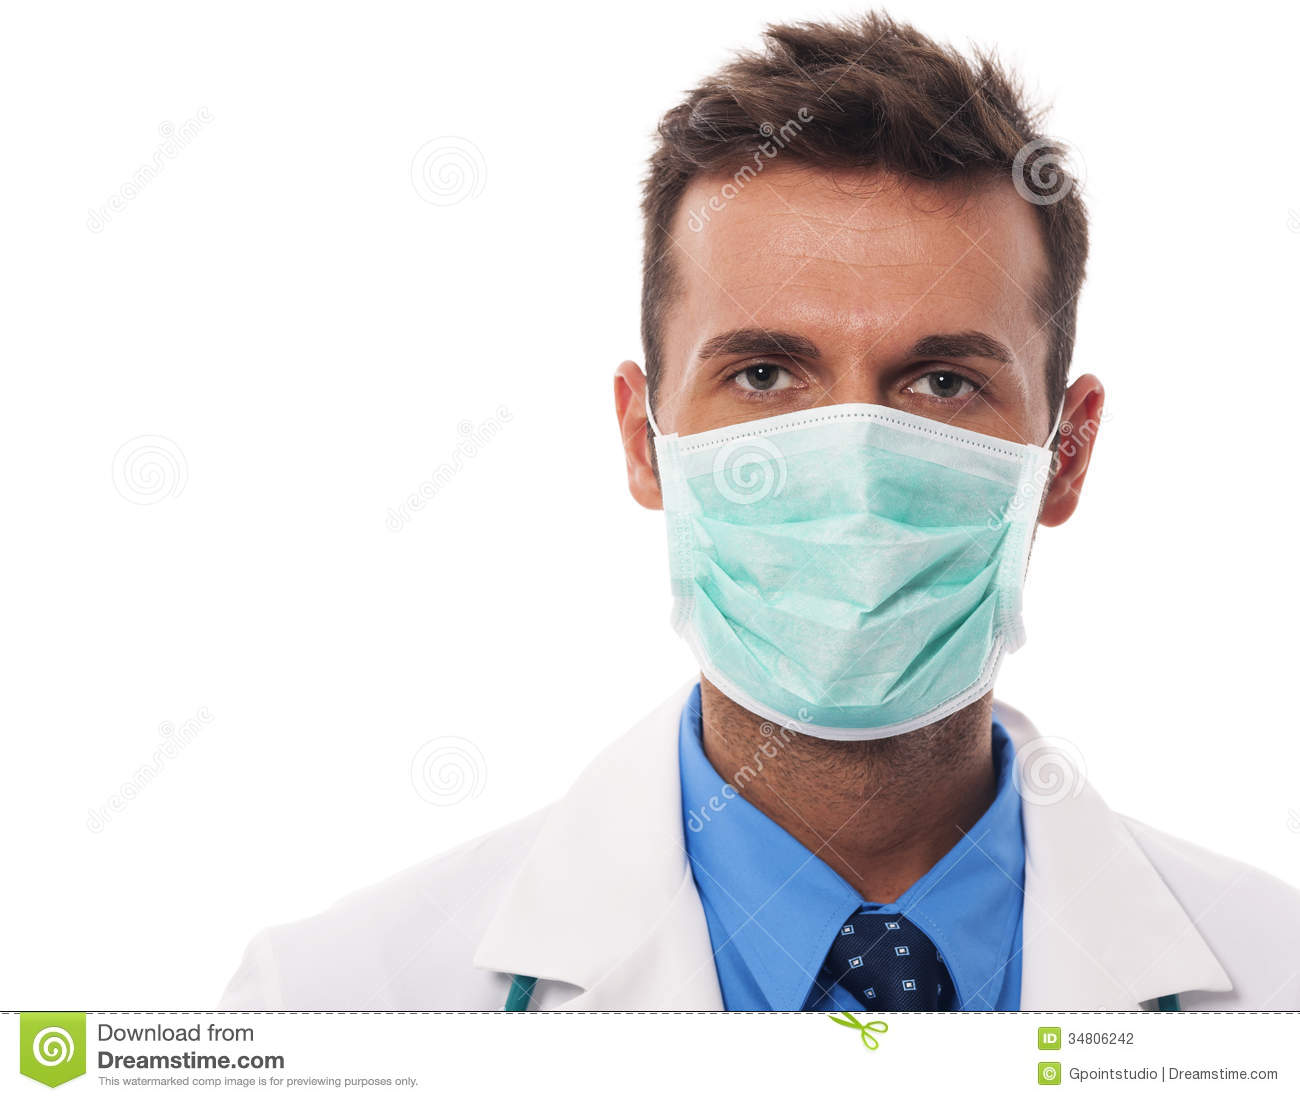mask: (657, 412, 1060, 718)
